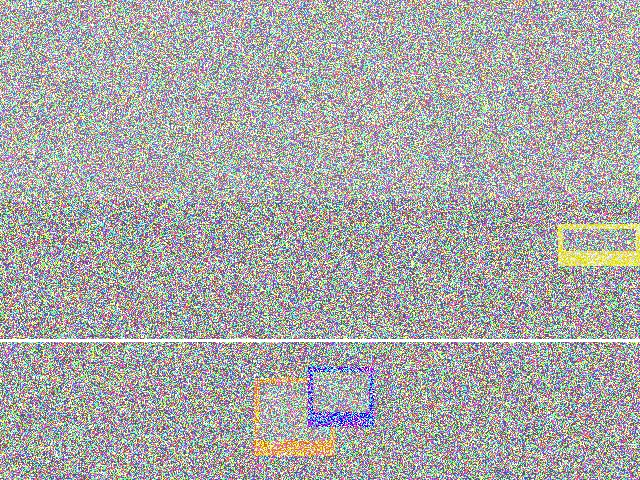car: (334, 154, 479, 221), (262, 362, 328, 446)
